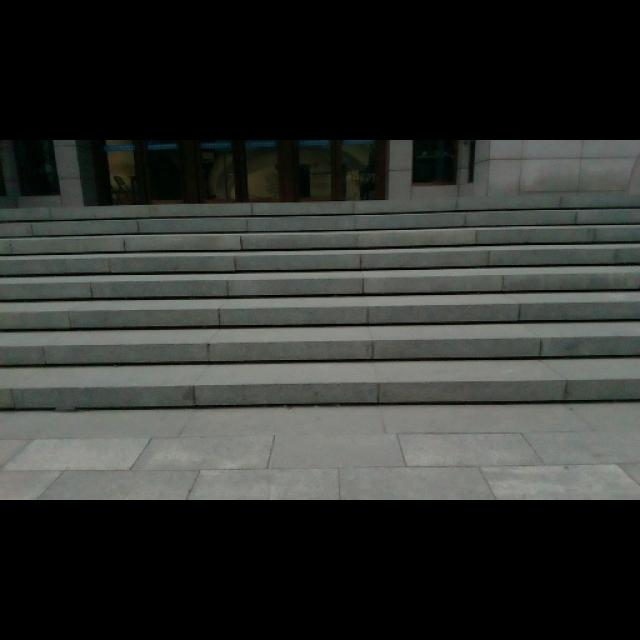Stairs: (0, 202, 639, 408)
